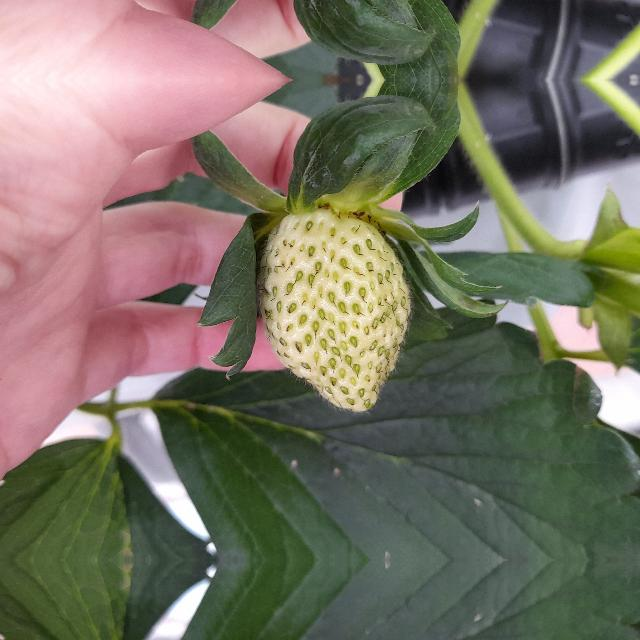Health_25: (256, 205, 416, 415)
